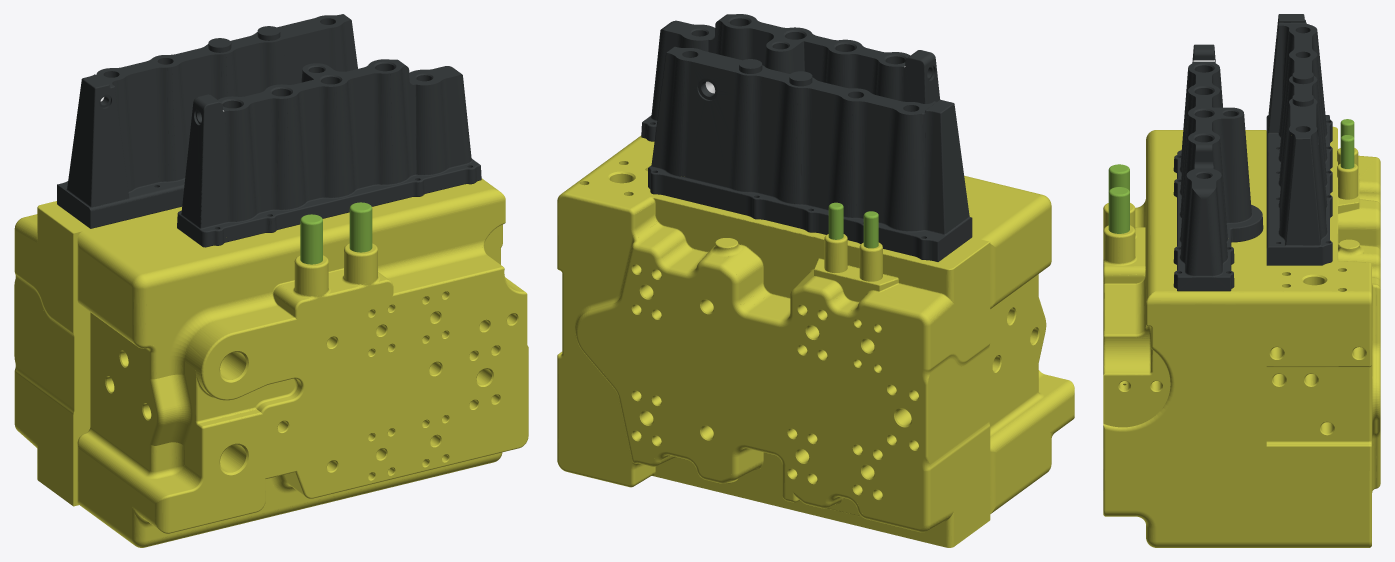
File: ControlValve.glb
3 renders of one model, left to right at view 1: azimuth 30°, elevation 25°; view 2: azimuth 150°, elevation 25°; view 3: azimuth 270°, elevation 25°, orthographic. The views are drawn at different scales.
Bounding box in the file's own units: 1.87 × 1.98 × 1.3.
